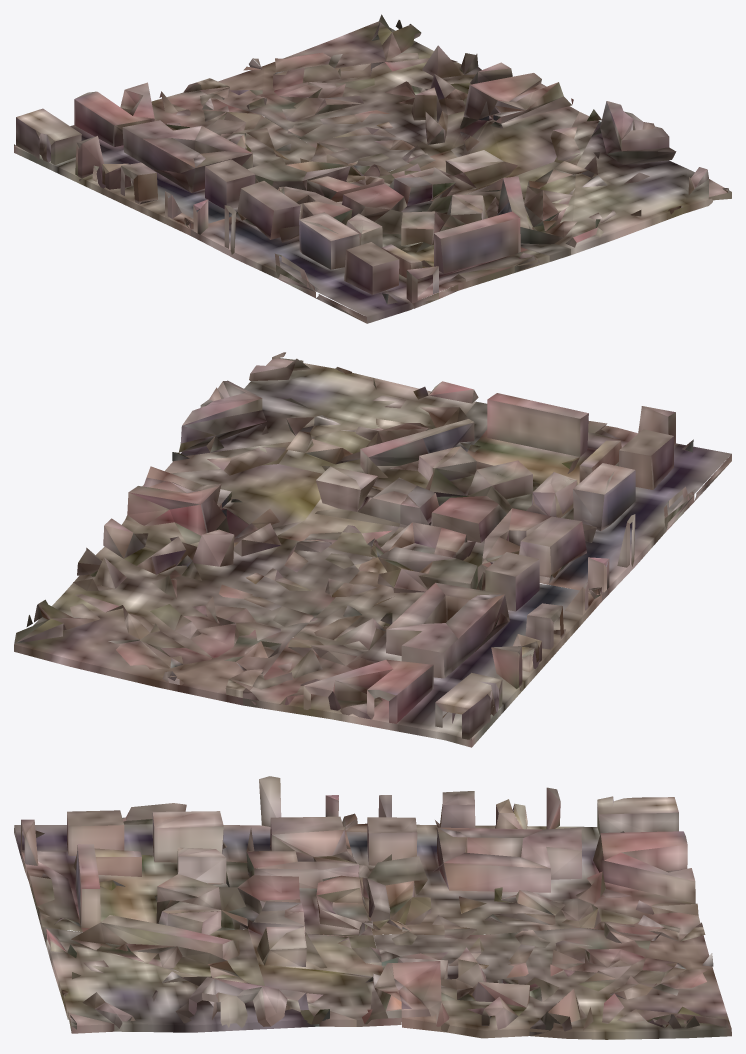
3 views of the same model, one above another, from view 1: azimuth 30°, elevation 25°; view 2: azimuth 150°, elevation 25°; view 3: azimuth 270°, elevation 25° (orthographic). The views are drawn at different scales.
Visible parts, largest first — view 1: Mesh_0; view 2: Mesh_0; view 3: Mesh_0.
Boxes of the visible parts, box(x1,y1,x2,y2) form: Mesh_0: box(14, 14, 731, 323); Mesh_0: box(14, 352, 731, 747); Mesh_0: box(14, 776, 731, 1039).
Bounding box in the file's own units: 533 × 81.91 × 659.
Materials: 2 (2 with a texture image).
